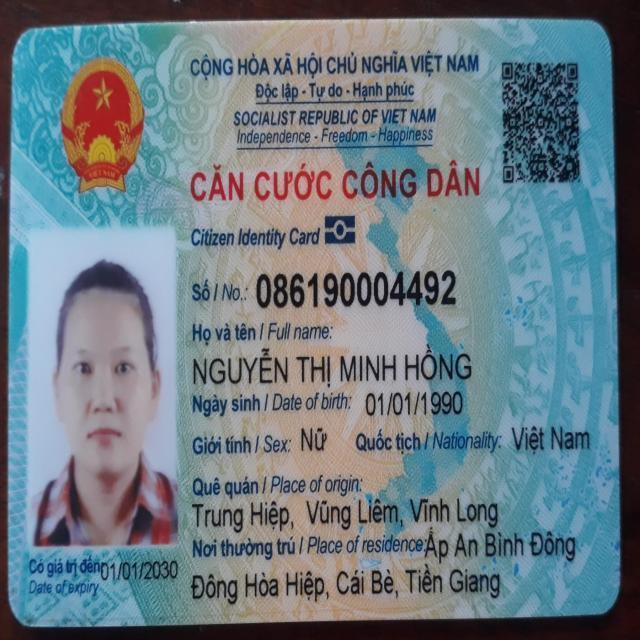current_place: (189, 559, 508, 608), (425, 523, 579, 565)
dob: (359, 384, 471, 423)
expire_date: (100, 556, 180, 586)
gender: (293, 417, 339, 466)
id: (254, 267, 464, 313)
name: (188, 339, 477, 390)
nationality: (504, 414, 601, 463)
origin_place: (190, 497, 506, 532)
